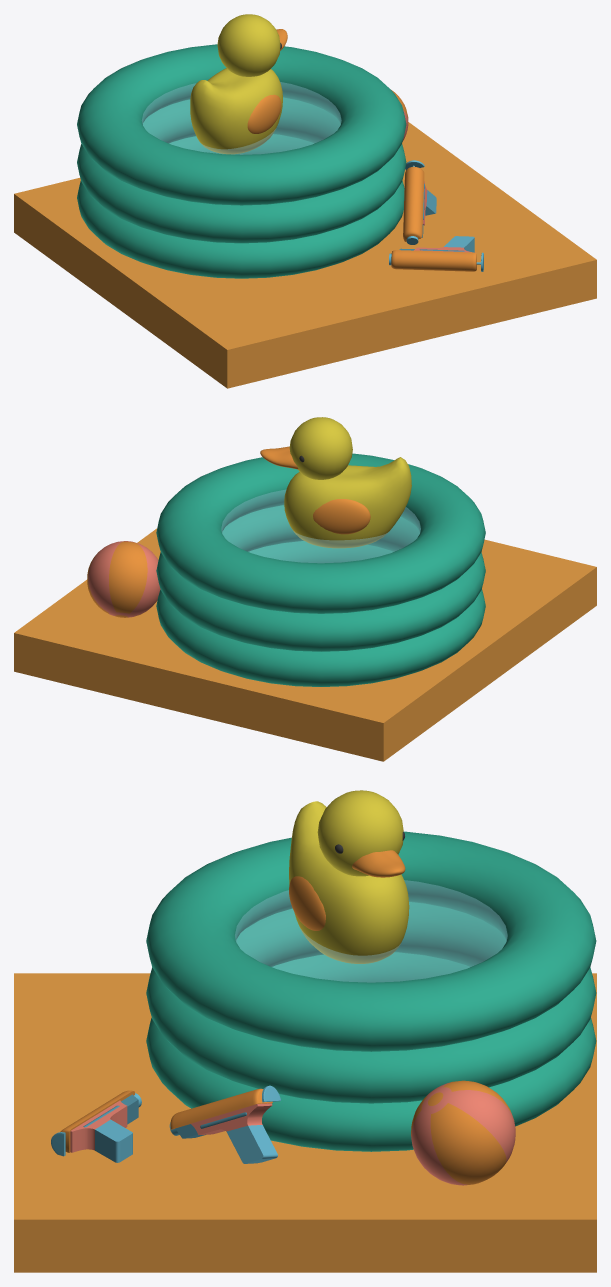
The model's file is swimmingPool.fbx.
3 views of the same model, one above another, from view 1: azimuth 30°, elevation 25°; view 2: azimuth 150°, elevation 25°; view 3: azimuth 270°, elevation 25° (orthographic). The views are drawn at different scales.
Parts seen in each view (by area): view 1: swimmingPool; view 2: swimmingPool; view 3: swimmingPool.
Boxes of the visible parts, x1,y1,x2,y2 form: swimmingPool: [14, 14, 596, 388]; swimmingPool: [14, 417, 596, 761]; swimmingPool: [14, 790, 596, 1272].
Bounding box in the file's own units: 500 × 313 × 500.
